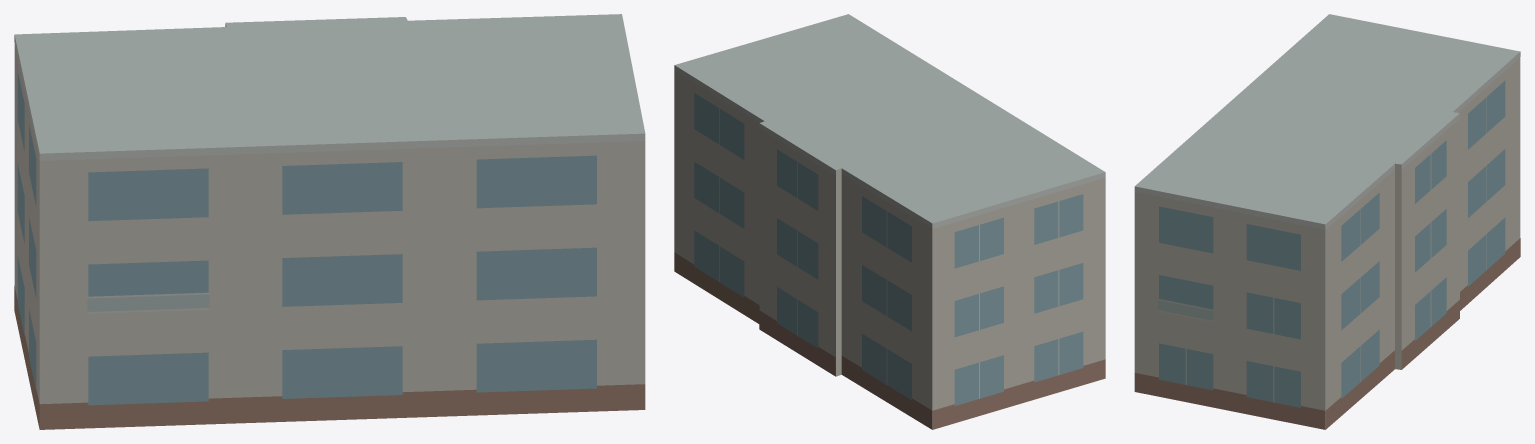
The model's file is survey-upis-32550856.glb.
3 views of the same model, side by side, from view 1: azimuth 30°, elevation 25°; view 2: azimuth 150°, elevation 25°; view 3: azimuth 270°, elevation 25° (orthographic). The views are drawn at different scales.
Parts seen in each view (by area): view 1: survey-upis-32550856.tmp; view 2: survey-upis-32550856.tmp; view 3: survey-upis-32550856.tmp.
Boxes of the visible parts, <box> form: survey-upis-32550856.tmp: <box>14,14,645,429</box>; survey-upis-32550856.tmp: <box>674,14,1105,429</box>; survey-upis-32550856.tmp: <box>1134,14,1520,429</box>.
Size of the model in its own units: 20.1 by 9.15 by 15.58.
